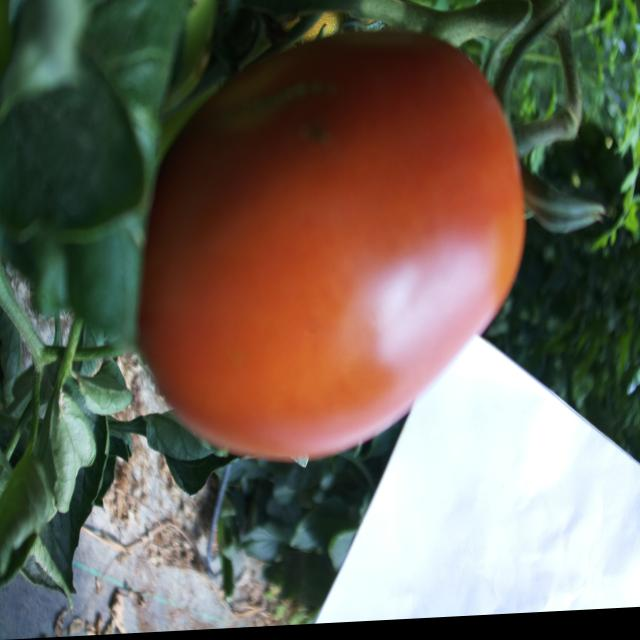kirmizi: (85, 46, 567, 451)
